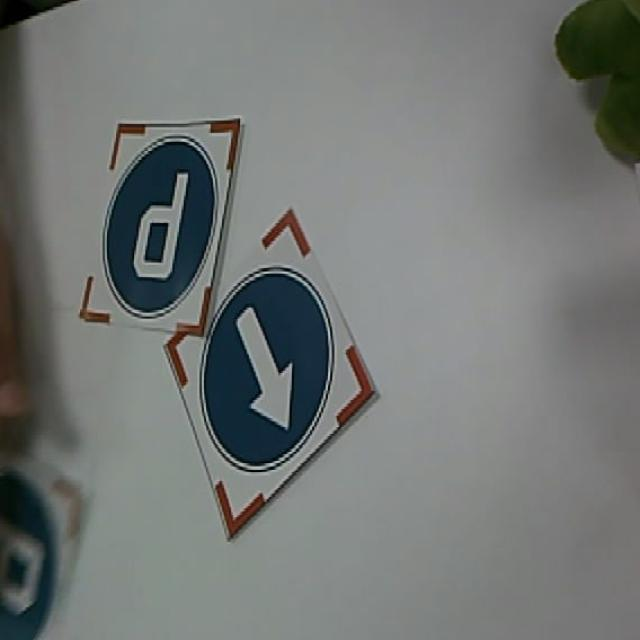parking: (87, 114, 216, 321)
straight: (182, 240, 373, 488)
